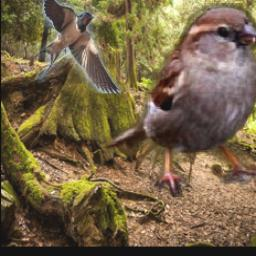Sparrow: (105, 4, 256, 198)
Swallow: (29, 0, 120, 94)
